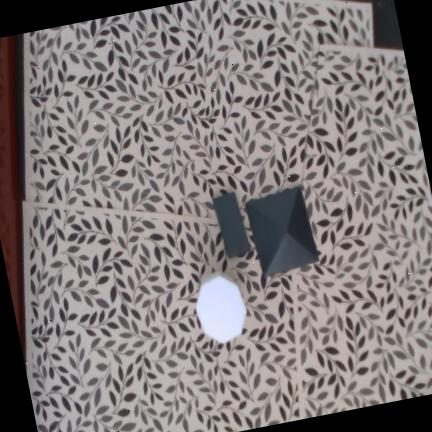Paralelepipedo: (212, 191, 251, 259)
Piramide: (245, 186, 319, 278)
Prisma_hexagonal: (195, 271, 247, 344)
